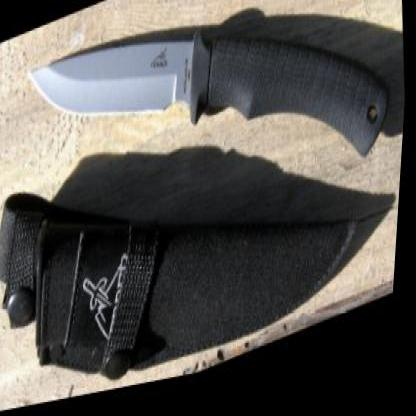knife: (14, 0, 242, 203)
